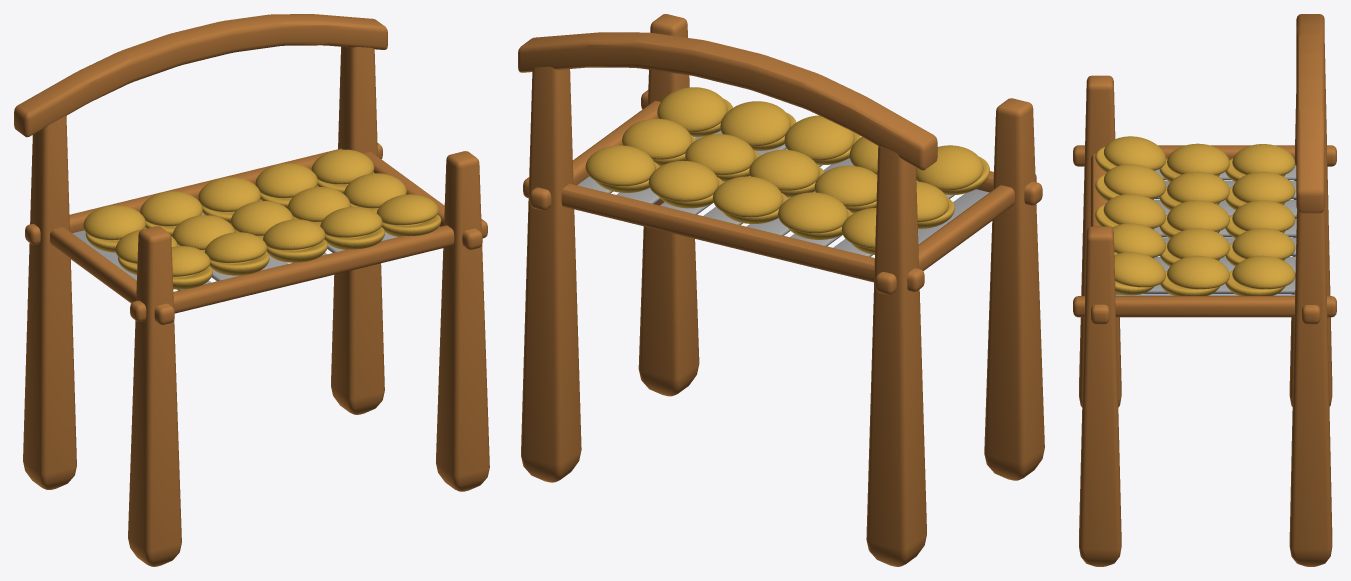
The model's file is ekmeklik.fbx.
3 views of the same model, side by side, from view 1: azimuth 30°, elevation 25°; view 2: azimuth 150°, elevation 25°; view 3: azimuth 270°, elevation 25° (orthographic). The views are drawn at different scales.
Parts seen in each view (by area): view 1: Cube.179, Sphere.007, Cube.178; view 2: Cube.179, Sphere.007, Cube.178; view 3: Cube.179, Sphere.007, Cube.178.
Boxes of the visible parts, x1,y1,x2,y2 form: Cube.179: [14, 14, 489, 566]; Sphere.007: [83, 149, 441, 289]; Cube.178: [72, 199, 439, 290]; Cube.179: [518, 14, 1044, 566]; Sphere.007: [585, 87, 989, 254]; Cube.178: [577, 130, 989, 256]; Cube.179: [1073, 14, 1336, 566]; Sphere.007: [1095, 136, 1295, 295]; Cube.178: [1115, 165, 1296, 295].
Bounding box in the file's own units: 418 × 463 × 262.
